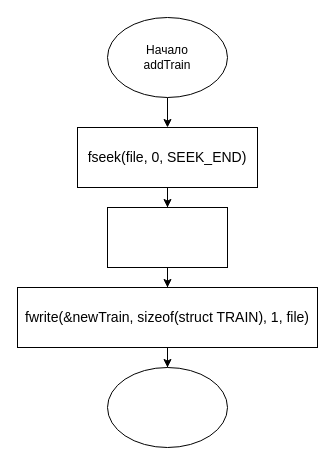
Some shapes in this 335 by 465 pixel diagram are drawn without their labels. The shapes that lost their labels are listed below. From the top down, each one's box as (x1, y1, x2, y2) in pixels, then its label:
(106, 206, 228, 268): newTrain = setTrain()
(106, 366, 228, 448): Конец
